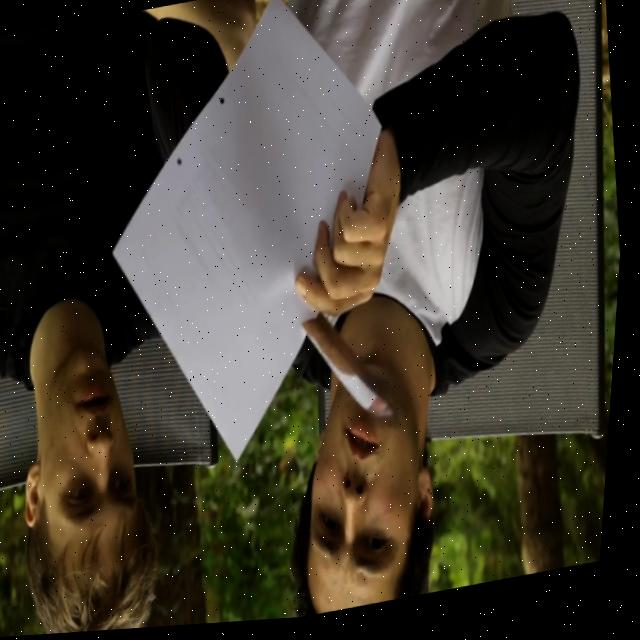knife: (288, 299, 421, 450)
